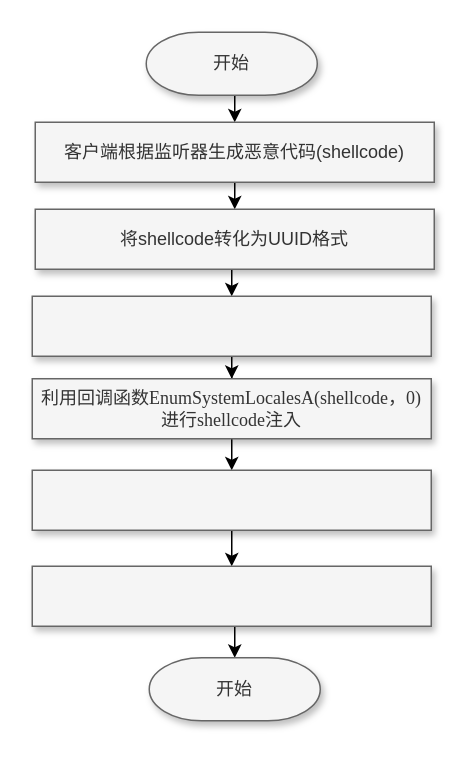
Image size: 470x758. Some labels were removed from this diagram. Each missing label, with the centre of its shape:
实现动态绕过杀毒软件: point 232,598
将shellcode和加载器打包成exe文件: point 232,502
将UUID形式的格式加载至内存: point 232,328
